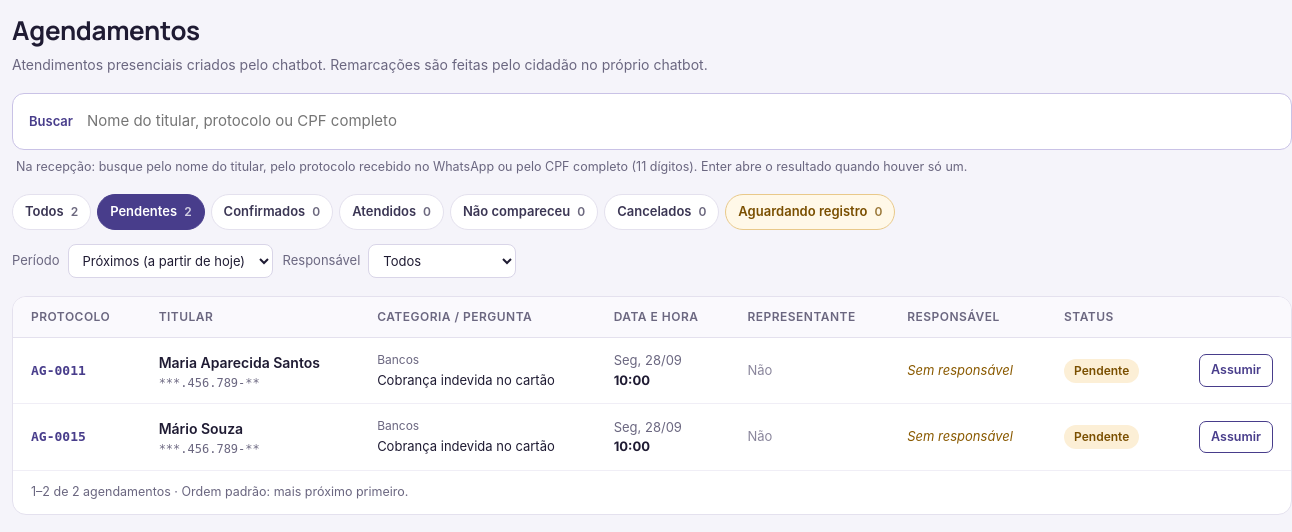
Test case: Appointments.page: busca › durante a busca o rodapé mostra a ordem mista, qualquer que seja o filtro
The image size is (1292, 532).
Expected: the text "1–2 de 2 agendamentos · Ordem padrão: mais próximo primeiro." is shown, 31,483 -> 408,502
Type "Ma" into the search field labelled "Buscar".
click(684, 121); type("Ma")  # box 83,100 -> 1285,142
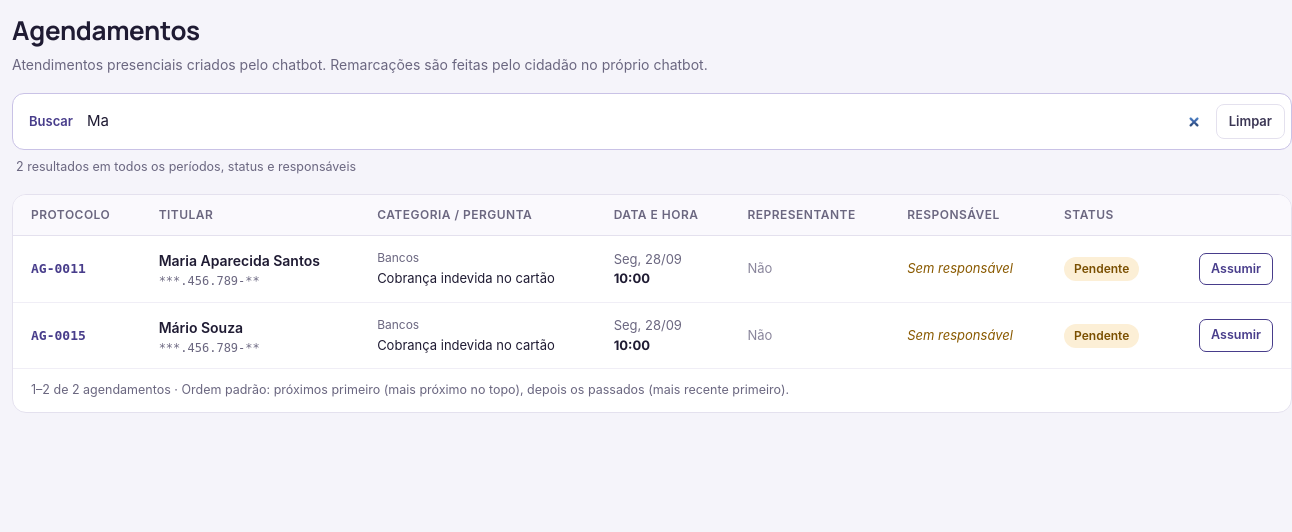
Expected: the text "1–2 de 2 agendamentos · Ordem padrão: próximos primeiro (mais próximo no topo), depois os passados (mais recente primeir" is shown, 31,382 -> 789,397
